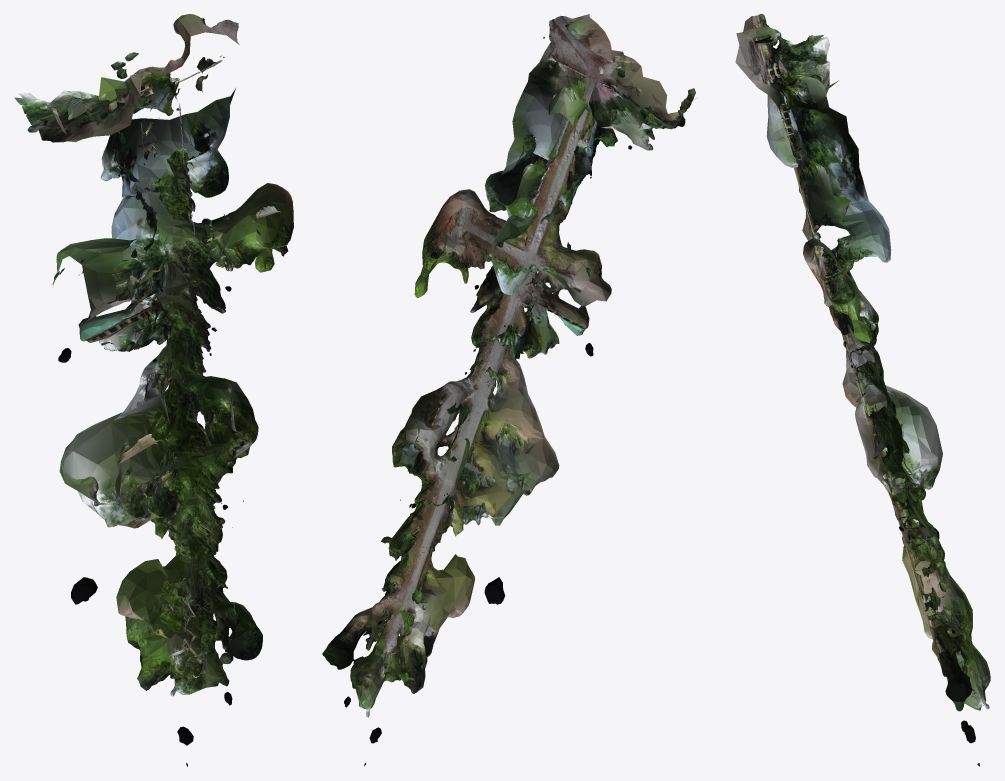
Rendered from GATE2LHSdt.glb.
The picture shows the model from 3 angles, left to right: view 1: azimuth 30°, elevation 25°; view 2: azimuth 150°, elevation 25°; view 3: azimuth 270°, elevation 25°; orthographic projection. The views are drawn at different scales.
Size of the model in its own units: 9.54 by 23.28 by 7.98.
Materials: 2 (2 with a texture image).
